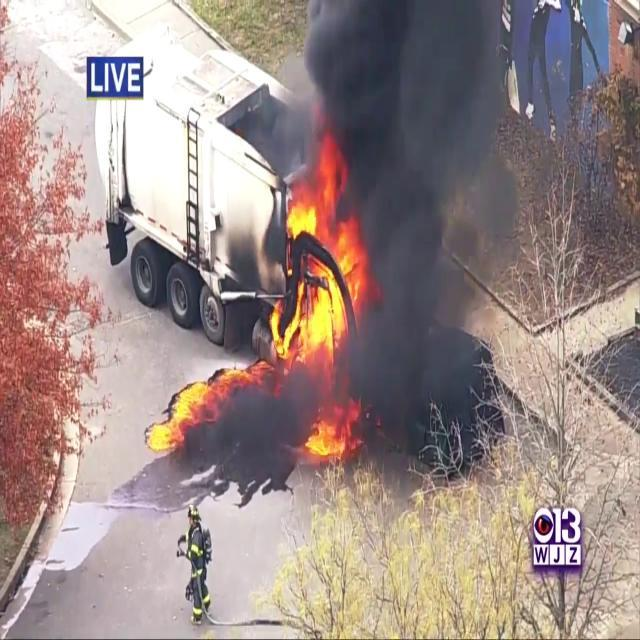Fire: (268, 152, 366, 367), (148, 354, 254, 458), (303, 409, 357, 467)
Smoke: (308, 1, 518, 458)
